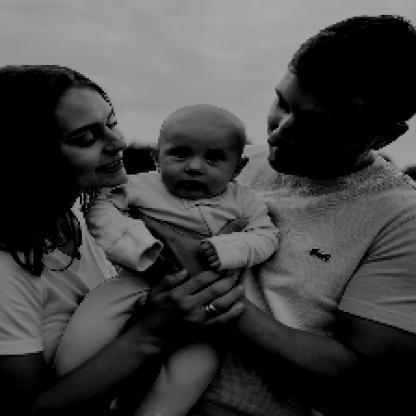child: (50, 103, 284, 415)
